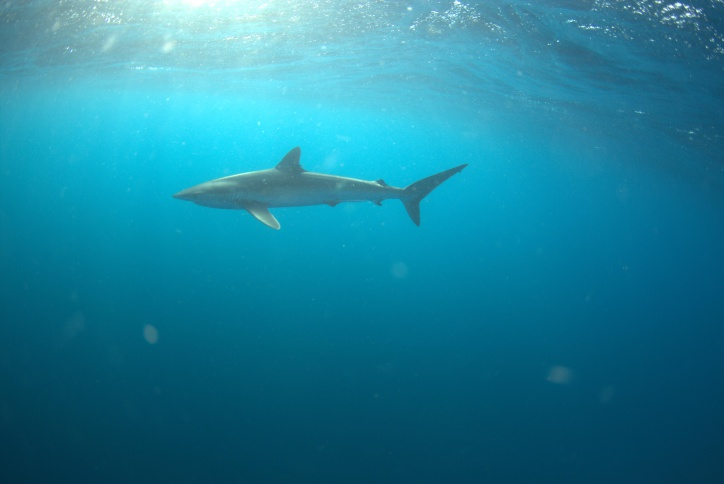Sedoso: (166, 133, 477, 245)
